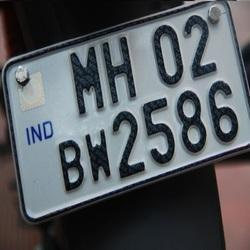licence-plate: (0, 7, 248, 203)
